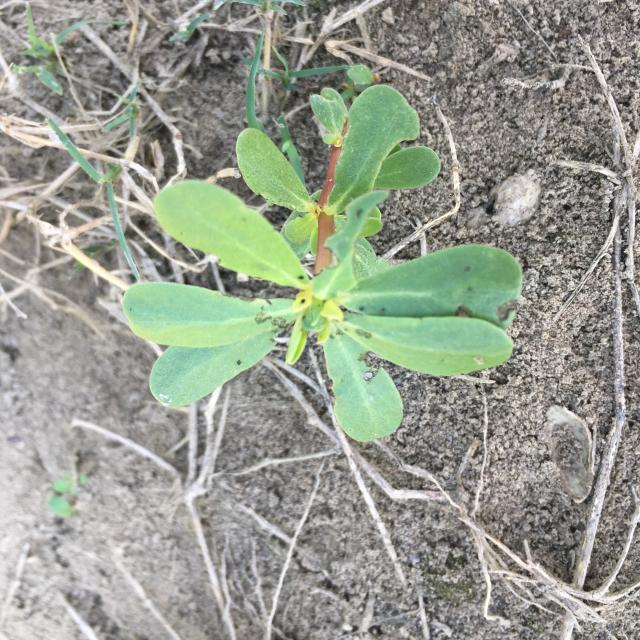Purslane: (122, 64, 522, 442)
